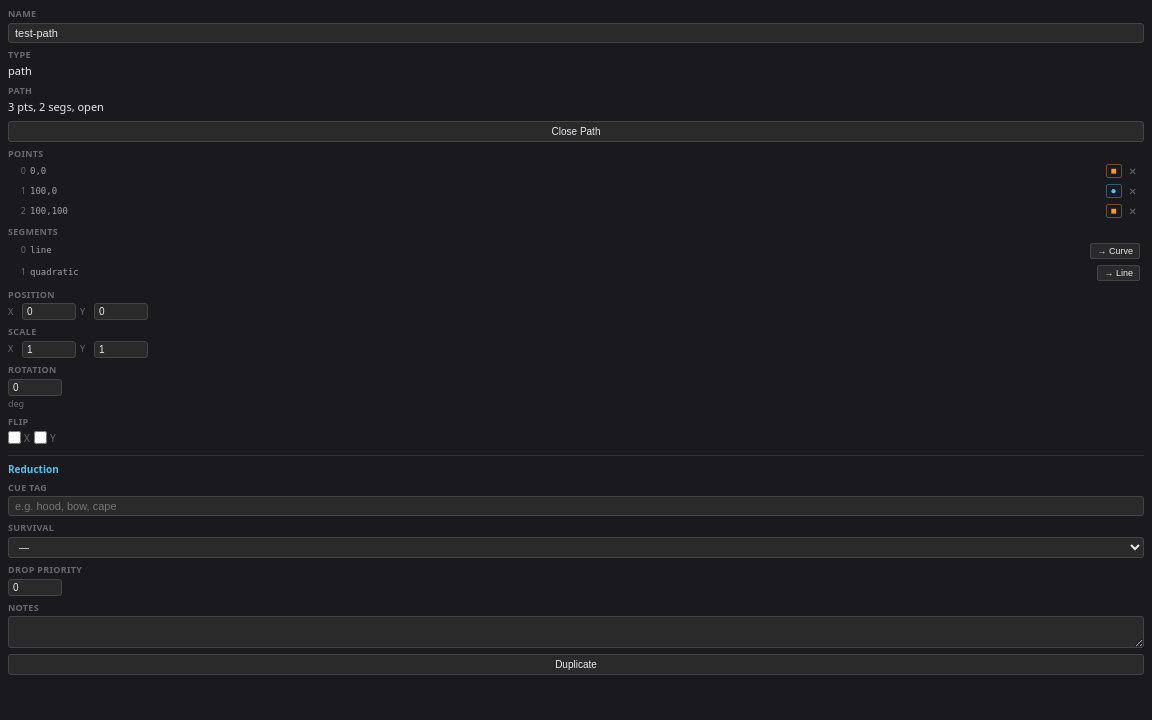
Test: VectorPropertiesPanel — path controls › clicking segment conversion button converts line to curve
Note: Click the first "→ Curve" button (converts line segment to quadratic)
Click the button "→ Curve" at (1115,251), box [1090, 243, 1140, 259]
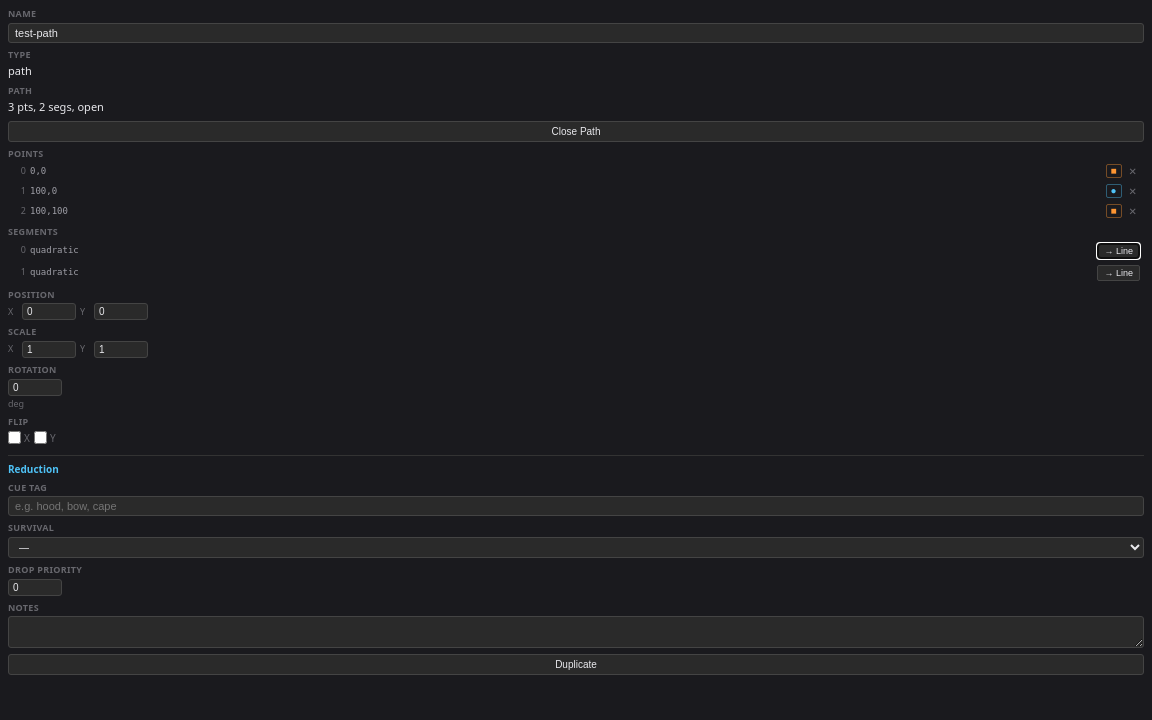
expect the 1st text "quadratic" is shown: met, box [30, 246, 79, 256]
